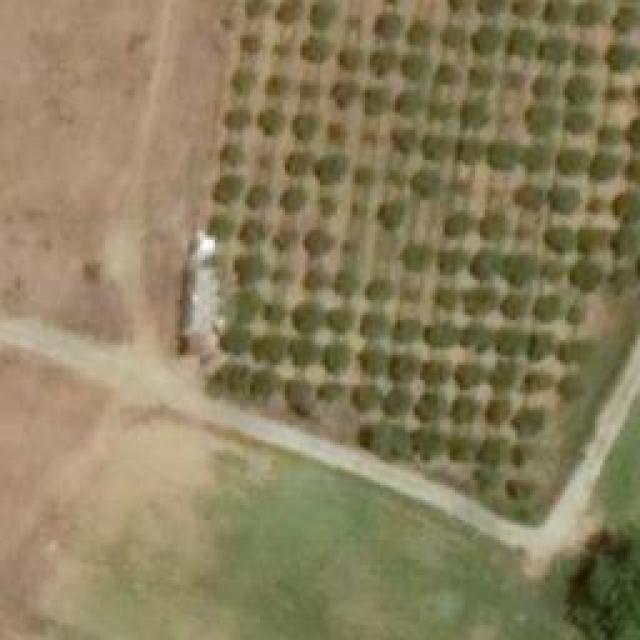Tree: (568, 528, 638, 638), (360, 423, 410, 456), (480, 433, 520, 468), (507, 405, 545, 435), (502, 475, 540, 503), (313, 155, 348, 185), (208, 175, 241, 205), (565, 260, 595, 293), (605, 42, 640, 70), (322, 340, 350, 373), (255, 108, 283, 141), (392, 88, 420, 121), (565, 75, 598, 103), (510, 185, 543, 213), (483, 212, 516, 240), (413, 428, 443, 458), (490, 360, 520, 390), (303, 228, 333, 258), (307, 0, 335, 30), (382, 388, 410, 418), (298, 267, 328, 295), (233, 252, 263, 280), (293, 110, 323, 138), (375, 10, 403, 40), (543, 37, 573, 65), (548, 185, 578, 213), (612, 193, 640, 223), (462, 322, 490, 350), (525, 332, 553, 360), (292, 302, 320, 330), (430, 60, 458, 88), (525, 107, 553, 135), (462, 97, 490, 125), (452, 137, 480, 165), (545, 225, 573, 253), (577, 225, 605, 253), (250, 335, 280, 360), (425, 323, 455, 348), (525, 368, 550, 398), (495, 293, 525, 318), (305, 30, 330, 60), (395, 55, 425, 80), (510, 28, 535, 58), (585, 155, 615, 180), (415, 170, 440, 200), (503, 258, 533, 283), (540, 0, 568, 25), (290, 338, 318, 363), (217, 328, 245, 353), (387, 353, 415, 378), (393, 317, 418, 345), (530, 295, 558, 320), (403, 242, 428, 270), (362, 280, 390, 305), (445, 213, 473, 238), (282, 153, 310, 178), (330, 80, 355, 108), (405, 20, 430, 48), (490, 140, 518, 165), (385, 125, 410, 153), (557, 340, 585, 365), (418, 395, 448, 418), (468, 65, 498, 88), (593, 125, 623, 148), (613, 230, 636, 260), (315, 380, 343, 403), (460, 290, 488, 313), (280, 187, 303, 215), (220, 108, 248, 131), (370, 50, 393, 78), (363, 87, 386, 115), (437, 28, 465, 51), (610, 10, 638, 33), (575, 3, 600, 28), (255, 370, 280, 395), (423, 360, 448, 385), (455, 360, 480, 385), (483, 400, 508, 425), (495, 328, 520, 353), (603, 265, 628, 290), (275, 3, 300, 26), (228, 363, 251, 388), (355, 388, 380, 411), (360, 313, 385, 336), (325, 308, 350, 331), (448, 435, 471, 460), (438, 248, 461, 273), (473, 253, 496, 278), (243, 218, 266, 243), (270, 228, 295, 251), (313, 193, 336, 218), (380, 203, 403, 228), (233, 70, 256, 95), (338, 48, 363, 71), (533, 78, 558, 101), (565, 110, 590, 133), (558, 150, 583, 173), (423, 133, 446, 158), (215, 145, 243, 165), (473, 0, 503, 18), (360, 345, 383, 368), (453, 398, 476, 421), (208, 215, 231, 238), (265, 75, 288, 98), (238, 33, 261, 56), (428, 98, 451, 121), (273, 35, 293, 60), (288, 385, 311, 405), (265, 268, 288, 288), (248, 185, 271, 205), (300, 80, 323, 100), (475, 28, 495, 51), (503, 68, 526, 88), (575, 43, 595, 66), (525, 145, 545, 168), (508, 0, 533, 18), (560, 375, 578, 400), (245, 0, 268, 18), (263, 303, 283, 323), (333, 275, 353, 295), (353, 165, 373, 185), (328, 125, 348, 145), (565, 303, 585, 323), (433, 290, 453, 308), (607, 85, 625, 105), (340, 235, 355, 258), (625, 158, 640, 181), (345, 15, 363, 33), (542, 260, 560, 278), (585, 197, 603, 215), (398, 288, 418, 303)
